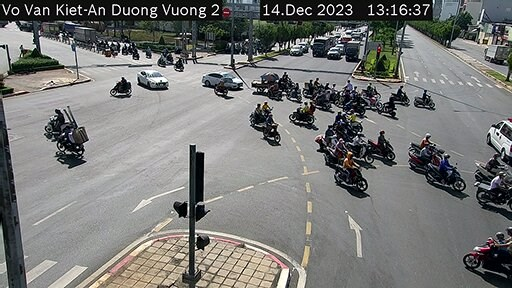car: (203, 66, 240, 97), (488, 117, 512, 162), (133, 69, 166, 99), (291, 42, 305, 58), (327, 47, 342, 60)
motorbike: (474, 227, 508, 275), (478, 175, 512, 215), (433, 155, 466, 196), (337, 145, 367, 190), (57, 123, 90, 159), (410, 132, 443, 159), (483, 153, 510, 184), (372, 132, 396, 166), (45, 103, 74, 129), (415, 145, 442, 170), (293, 101, 318, 127), (376, 97, 402, 122), (262, 111, 282, 142), (417, 89, 439, 117), (105, 76, 134, 96), (329, 133, 348, 161), (392, 83, 415, 106), (210, 77, 234, 96), (258, 93, 276, 118), (317, 130, 339, 149), (171, 57, 188, 75), (253, 101, 265, 126), (366, 80, 384, 96), (153, 57, 164, 70)
truck: (313, 35, 333, 64), (342, 39, 362, 62), (74, 26, 96, 45), (486, 45, 508, 63)
